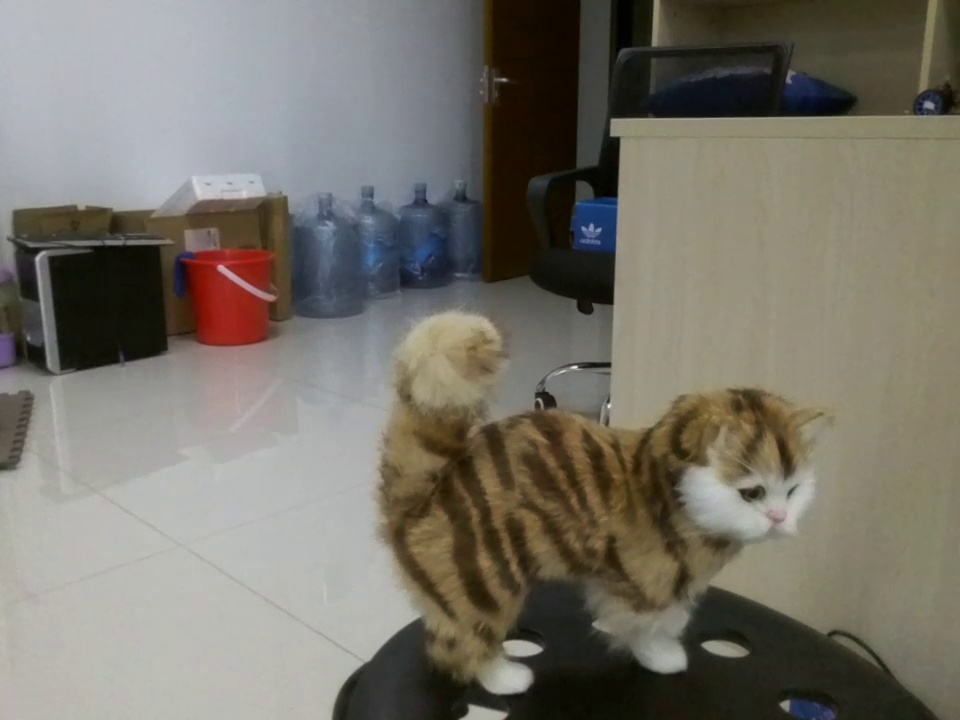cat: (370, 308, 830, 699)
